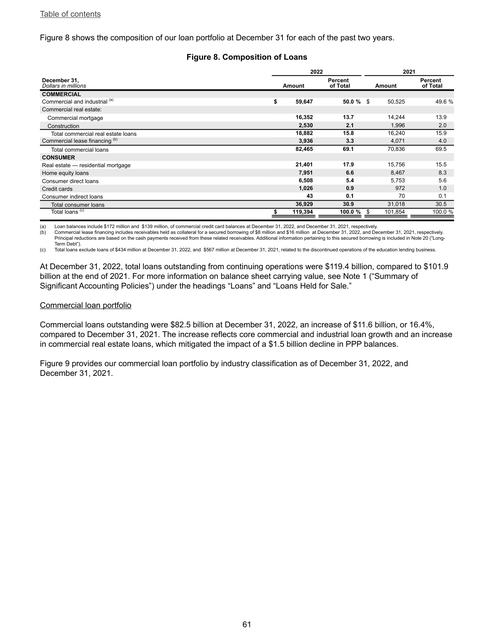box: (40, 67, 457, 254)
